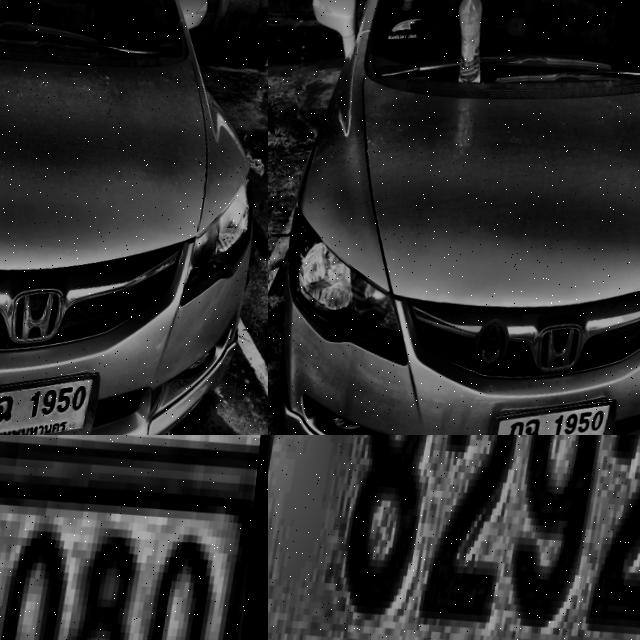license-plate: (268, 435, 640, 640), (0, 435, 267, 640), (0, 359, 116, 435), (488, 383, 633, 435)
